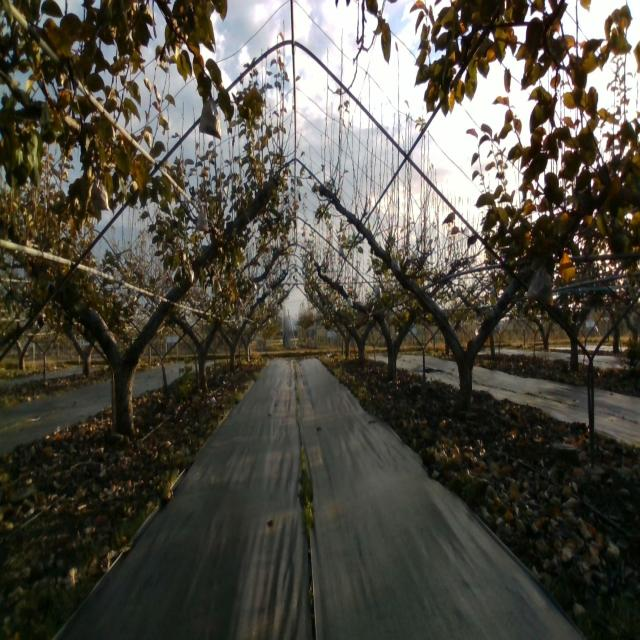pearbags: (527, 266, 553, 307), (199, 97, 222, 141), (90, 177, 110, 212), (196, 206, 209, 232)
